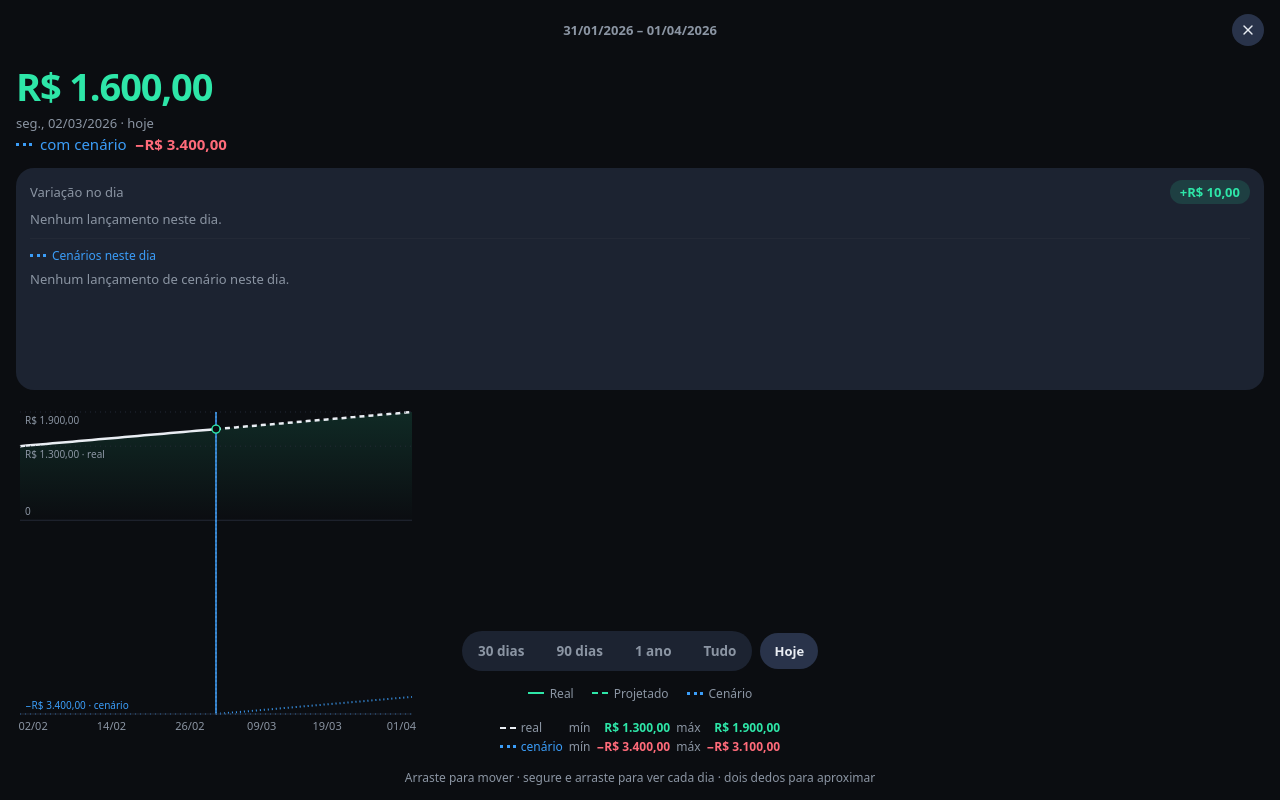
FluxoChartModal — leitura do dia com cenário › dia passado: a linha "com cenário" fica oculta mas ocupa o lugar, e a seção explica
Press the mouse on the element with test id "grafico-expandido-area" at (216, 574), box [16,404,416,744]
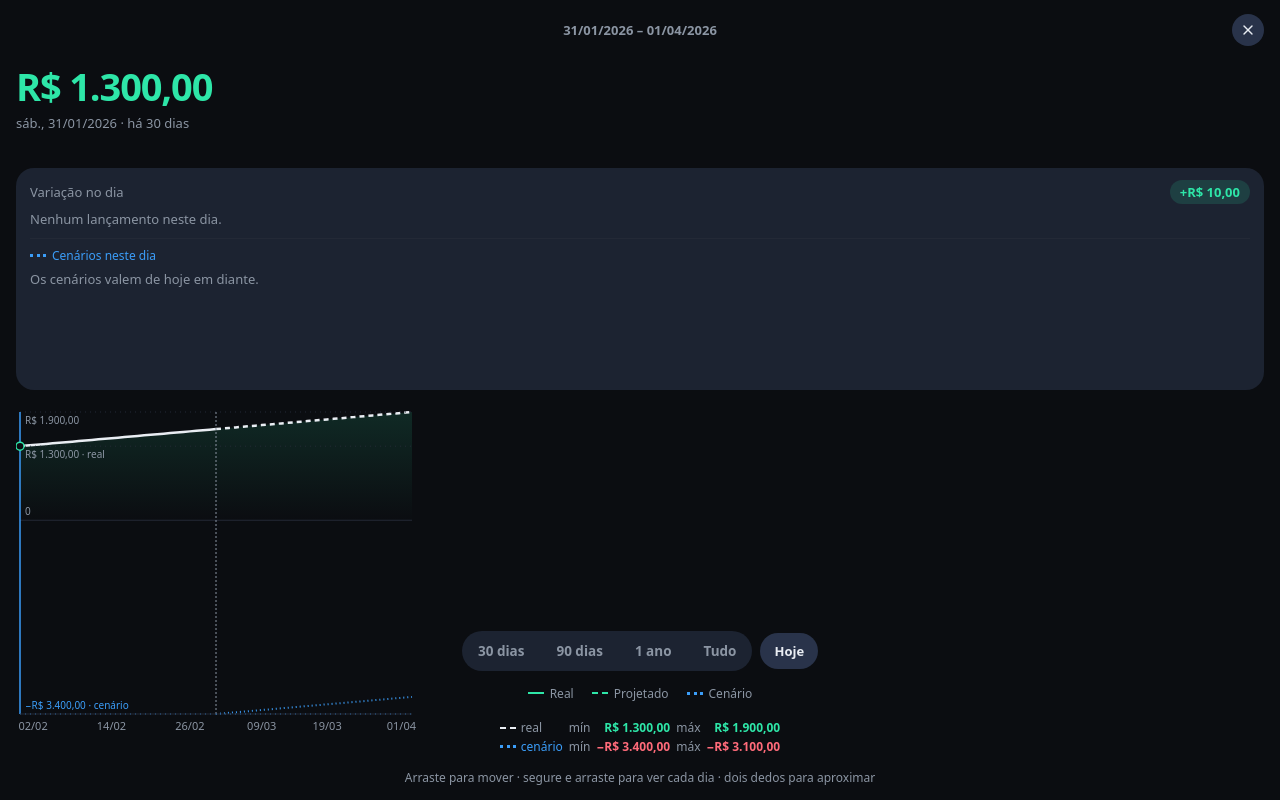
Now the element with test id "grafico-expandido-cenarios" shows "Os cenários valem de hoje em diante.", box [30,270,259,288]
